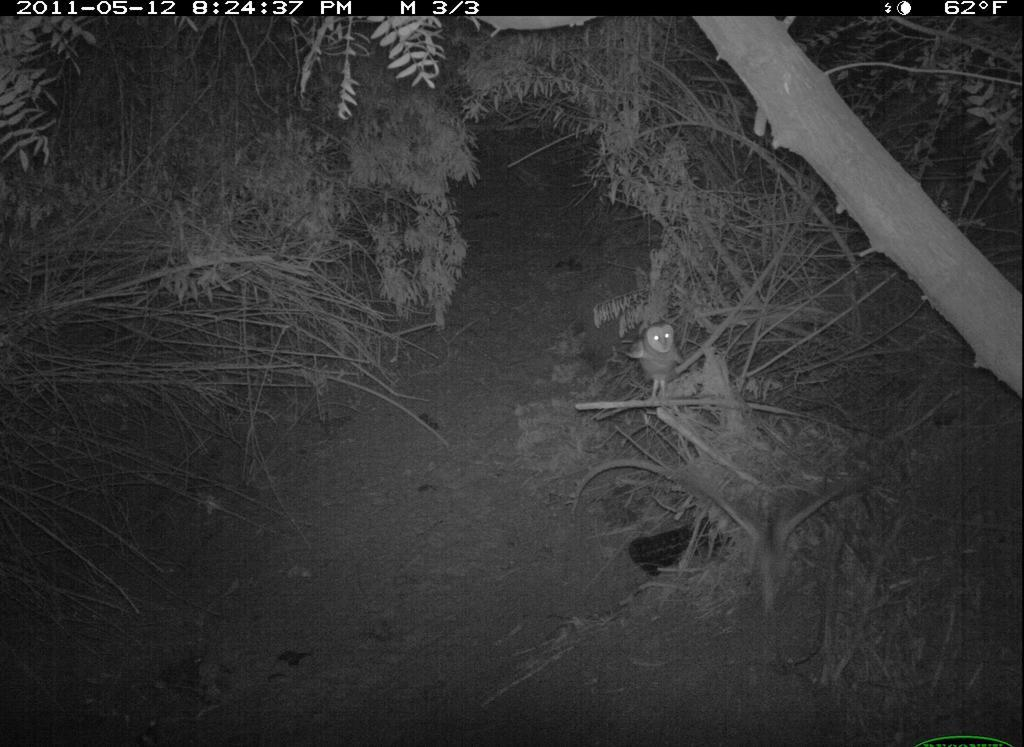bird: (622, 318, 692, 411)
